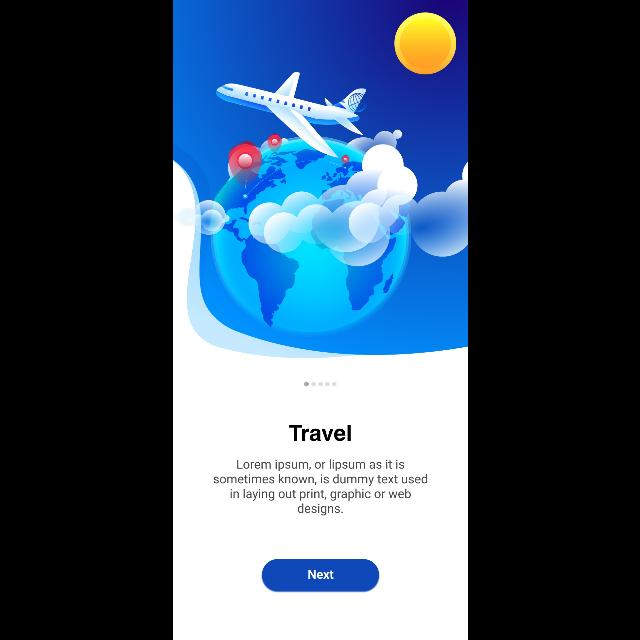image: (172, 1, 468, 359)
pageindicator: (304, 382, 336, 386)
text: (213, 459, 427, 515), (288, 424, 350, 442)
textbutton: (261, 560, 379, 592)
